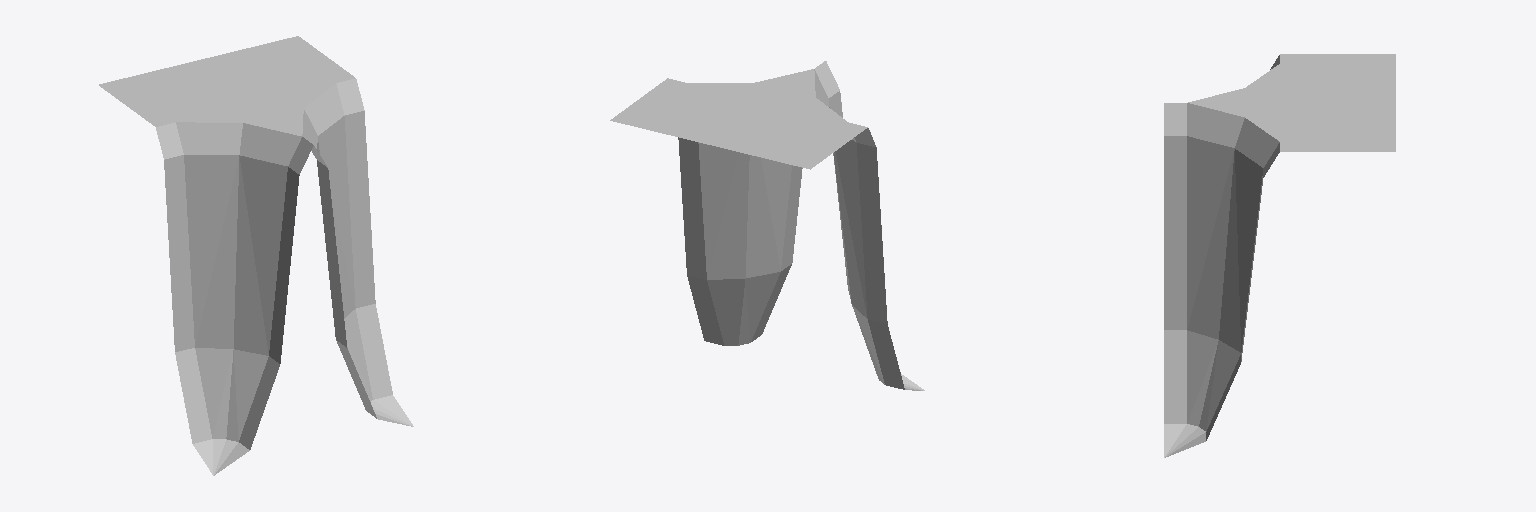
File: wall_13.obj
3 views of the same model, side by side, from view 1: azimuth 30°, elevation 25°; view 2: azimuth 150°, elevation 25°; view 3: azimuth 270°, elevation 25° (orthographic).
Visible parts, largest first — view 1: wall_13_Cave_Wall_Inner.022; view 2: wall_13_Cave_Wall_Inner.022; view 3: wall_13_Cave_Wall_Inner.022.
Part boxes in pixels (x1,y1,x2,y2): wall_13_Cave_Wall_Inner.022: (99,36,413,475); wall_13_Cave_Wall_Inner.022: (610,61,924,390); wall_13_Cave_Wall_Inner.022: (1164,54,1395,457).
Bounding box in the file's own units: 1 × 1.46 × 1.